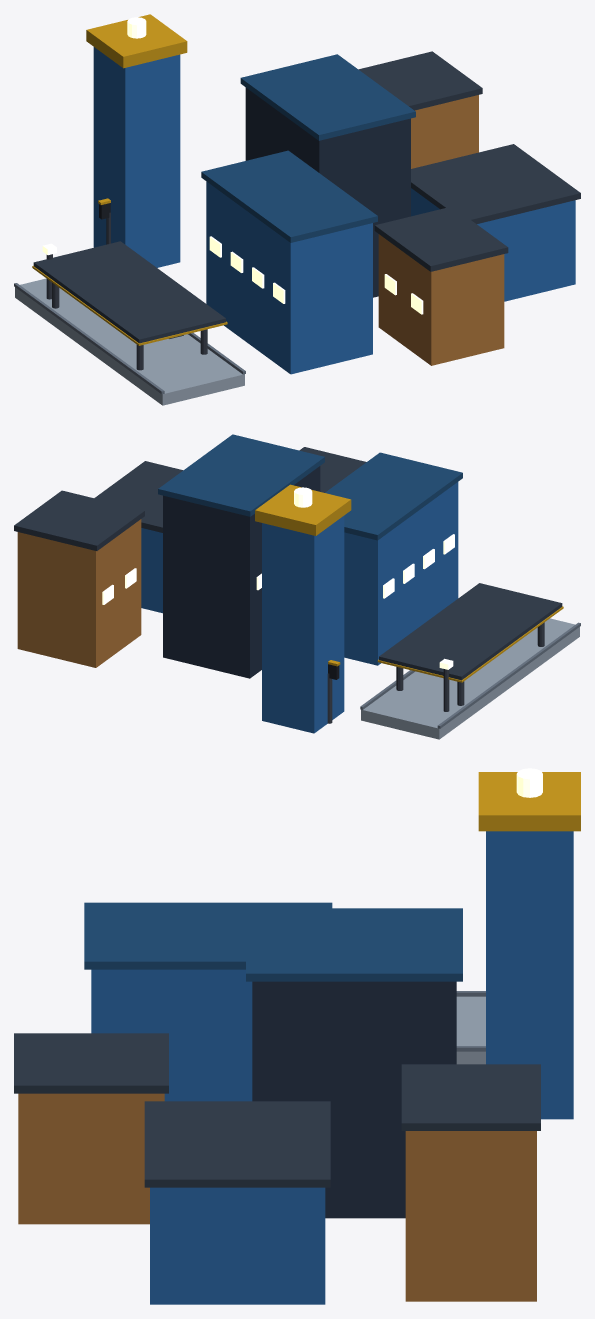
Rendered from station.glb.
The picture shows the model from 3 angles, top to bottom: view 1: azimuth 30°, elevation 25°; view 2: azimuth 150°, elevation 25°; view 3: azimuth 270°, elevation 25°; orthographic projection. The views are drawn at different scales.
Visible parts, largest first — view 1: bldg, tower, bldg.001, bldg.002, canopy_roof, platform, bldg_roof, bldg_roof.002, bldg_roof.003, bldg.003, bldg_roof.001, bldg_roof.004 (+4 smaller); view 2: bldg.002, tower, bldg.004, bldg, canopy_roof, platform, bldg_roof.002, bldg_roof, bldg_roof.004, tower_top, bldg_roof.003, bldg.003 (+3 smaller); view 3: bldg.002, bldg.004, tower, bldg.003, bldg.001, bldg_roof.003, bldg, bldg_roof.002, bldg_roof, bldg_roof.001, bldg_roof.004, tower_top (+2 smaller).
Boxes of the visible parts, x1,y1,x2,y2 form: bldg: (206, 181, 372, 374); tower: (93, 47, 180, 267); bldg.001: (378, 234, 504, 365); bldg.002: (245, 87, 410, 297); canopy_roof: (33, 241, 225, 343); platform: (15, 278, 244, 405); bldg_roof: (201, 150, 377, 242); bldg_roof.002: (240, 54, 415, 140); bldg_roof.003: (411, 144, 580, 223); bldg.003: (411, 188, 575, 301); bldg_roof.001: (374, 206, 508, 271); bldg_roof.004: (358, 51, 482, 110); bldg.002: (163, 466, 320, 678); tower: (262, 516, 344, 733); bldg.004: (17, 519, 141, 667); bldg: (344, 482, 458, 665); canopy_roof: (379, 583, 562, 680); platform: (361, 618, 579, 739); bldg_roof.002: (158, 434, 324, 516); bldg_roof: (325, 452, 462, 540); bldg_roof.004: (14, 490, 144, 550); tower_top: (255, 484, 351, 535); bldg_roof.003: (94, 461, 182, 532); bldg.003: (141, 528, 162, 613); bldg.002: (252, 981, 456, 1218); bldg.004: (405, 1131, 536, 1301); tower: (486, 831, 573, 1119); bldg.003: (150, 1187, 325, 1304); bldg.001: (18, 1093, 164, 1224); bldg_roof.003: (144, 1101, 330, 1187); bldg: (91, 969, 252, 1101); bldg_roof.002: (246, 908, 462, 981); bldg_roof: (84, 902, 332, 969); bldg_roof.001: (14, 1033, 168, 1093); bldg_roof.004: (401, 1064, 540, 1130); tower_top: (478, 772, 580, 831).
Size of the model in its own units: 48.21 by 24.7 by 38.8.
